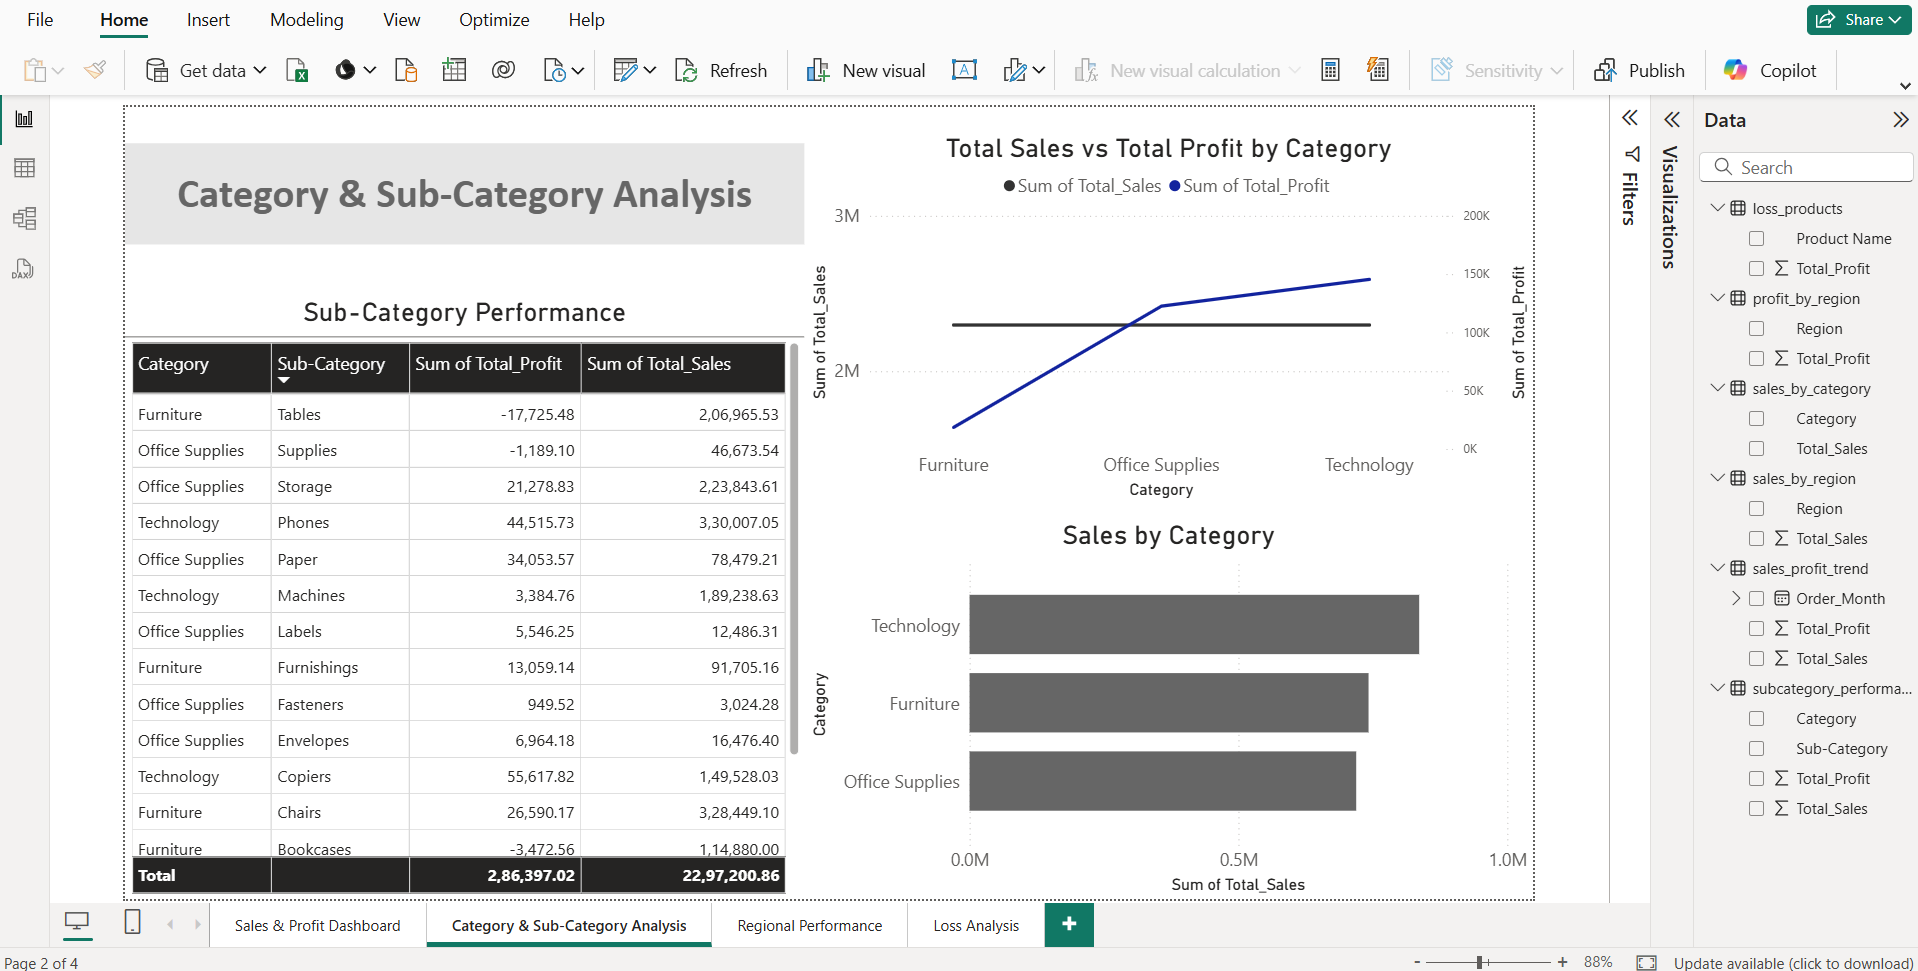

Layout of this report page (visuals, bound fields, positions):
{"tool":"powerbi","page":{"name":"Category & Sub-Category Analysis","canvas":[1280,720],"ordinal":1},"visuals":[{"type":"barChart","title":"Sales by Category","fields":{"Category":["subcategory_performance.Category"],"Y":["Sum(subcategory_performance.Total_Sales)"]},"box":[617.8,375.3,661.6,345.2],"z":0},{"type":"tableEx","title":"Sub-Category Performance","fields":{"Values":["subcategory_performance.Category","subcategory_performance.Sub-Category","Sum(subcategory_performance.Total_Profit)","Sum(subcategory_performance.Total_Sales)"]},"box":[0,161.6,617.8,558.9],"z":1000},{"type":"lineChart","title":"Total Sales vs Total Profit by Category","fields":{"Y2":["Sum(subcategory_performance.Total_Profit)"],"Y":["Sum(sales_profit_trend.Total_Sales)"],"Category":["subcategory_performance.Category"]},"box":[617.8,12.3,661.6,347.9],"z":2000},{"type":"textbox","box":[0,32.9,617.8,91.8],"z":3000}]}

Visuals, with their boxes on the page's 1280x720 design canvas (x1, y1, x2, y2). These are canvas units, not pixel positions in the 1918x971 screenshot, which may show the page scaled, cropped or inside an application window:
"Sales by Category" barChart: crop(618, 375, 1279, 720)
"Sub-Category Performance" tableEx: crop(0, 162, 618, 720)
"Total Sales vs Total Profit by Category" lineChart: crop(618, 12, 1279, 360)
textbox: crop(0, 33, 618, 125)
